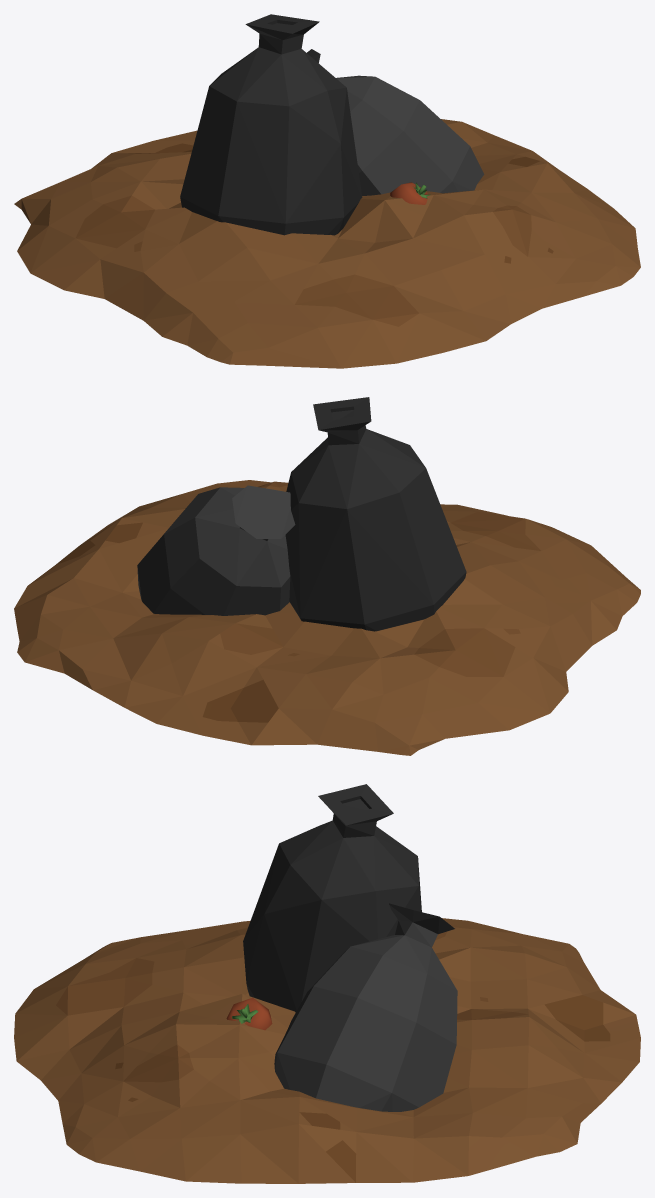
File: SM_Props_Garbage_01.fbx
The picture shows the model from 3 angles, top to bottom: view 1: azimuth 30°, elevation 25°; view 2: azimuth 150°, elevation 25°; view 3: azimuth 270°, elevation 25°; orthographic projection. The views are drawn at different scales.
Visible parts, largest first — view 1: SM_Props_Garbage_01; view 2: SM_Props_Garbage_01; view 3: SM_Props_Garbage_01.
Part boxes in pixels (x1,y1,x2,y2): SM_Props_Garbage_01: (14, 14, 640, 368); SM_Props_Garbage_01: (14, 397, 640, 755); SM_Props_Garbage_01: (14, 784, 640, 1183).
Size of the model in its own units: 128 by 70.9 by 127.
